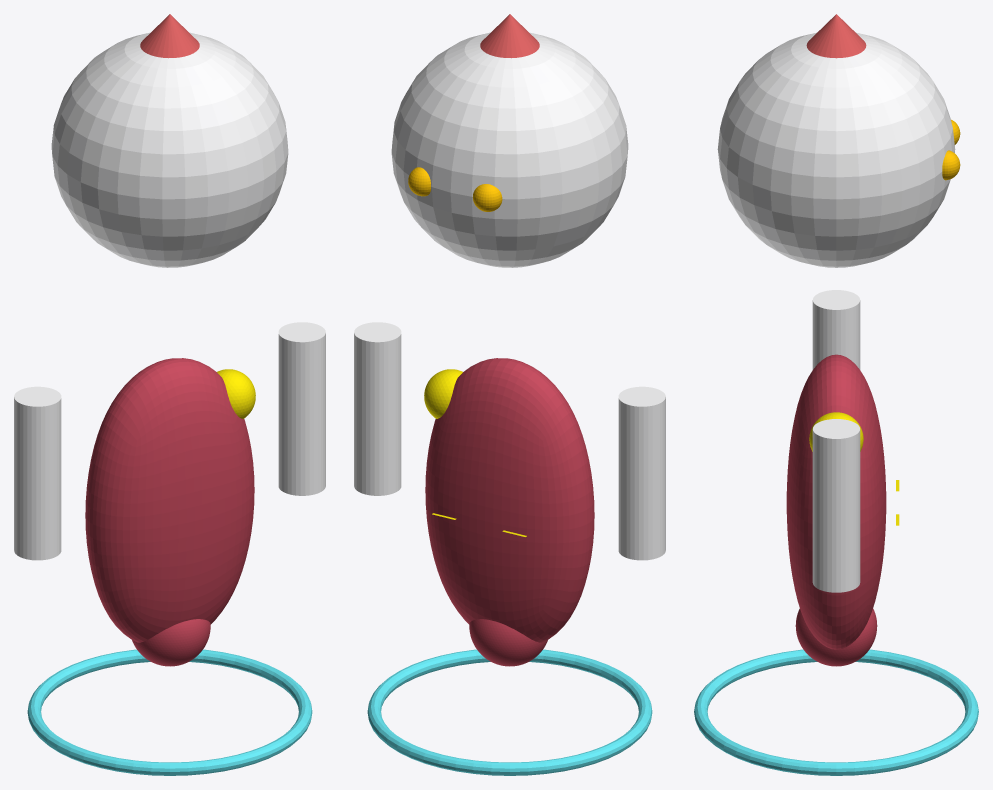
The model's file is mascot_raw.glb.
3 renders of one model, left to right at view 1: azimuth 30°, elevation 25°; view 2: azimuth 150°, elevation 25°; view 3: azimuth 270°, elevation 25°, orthographic.
Visible parts, largest first — view 1: Sphere, Cube, Cylinder, Cylinder.001, Torus, Icosphere, Cone, Icosphere.001; view 2: Sphere, Cube, Cylinder, Cylinder.001, Torus, Icosphere, Cone, Icosphere.001, Sphere.001, Sphere.002; view 3: Sphere, Cube, Cylinder.001, Torus, Cylinder, Icosphere, Cone.
Part boxes in pixels (x1,y1,x2,y2): Sphere: (51,32,288,267); Cube: (85,358,254,642); Cylinder: (14,386,61,560); Cylinder.001: (278,322,325,495); Torus: (27,649,312,775); Icosphere: (132,619,210,666); Cone: (140,14,199,58); Icosphere.001: (217,369,255,418); Sphere: (391,32,628,267); Cube: (425,358,594,642); Cylinder: (618,386,665,560); Cylinder.001: (354,322,401,495); Torus: (367,649,652,775); Icosphere: (469,619,547,666); Cone: (480,14,539,58); Icosphere.001: (424,369,462,418); Sphere.001: (472,184,502,211); Sphere.002: (408,167,430,196); Sphere: (717,32,955,267); Cube: (786,354,886,649); Cylinder.001: (812,419,860,592); Torus: (694,649,978,775); Cylinder: (812,290,860,369); Icosphere: (795,608,877,666); Cone: (806,14,866,58).
Bounding box in the file's own units: 1.04 × 2.29 × 0.84.
